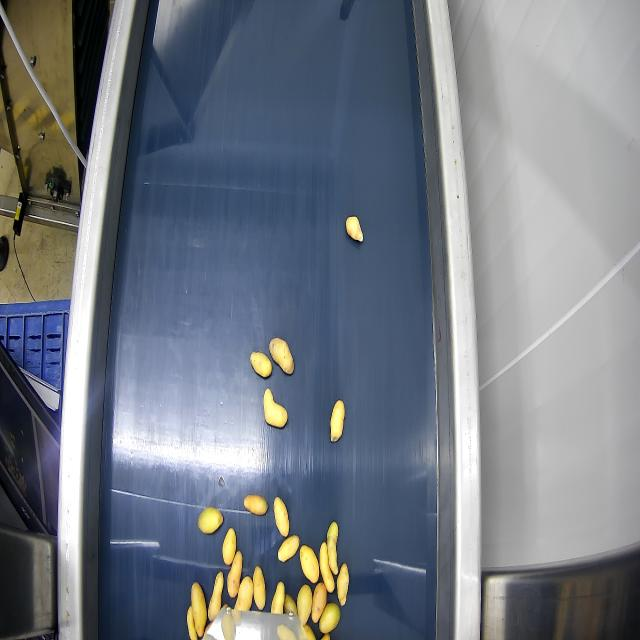Baby Potato: (263, 389, 287, 428), (269, 338, 293, 374), (191, 583, 207, 637), (208, 572, 224, 622), (319, 543, 334, 592), (300, 545, 319, 583), (227, 552, 242, 598), (234, 576, 253, 612), (311, 582, 327, 623), (198, 507, 222, 534), (319, 603, 340, 633), (297, 584, 312, 625), (274, 497, 289, 537), (327, 521, 338, 575), (330, 400, 344, 441), (250, 352, 271, 378), (222, 527, 236, 566), (278, 536, 299, 562), (253, 566, 265, 611), (337, 563, 348, 606), (244, 495, 267, 515), (271, 582, 285, 614), (346, 216, 363, 242), (187, 606, 197, 639), (284, 594, 297, 615), (303, 624, 315, 639)
